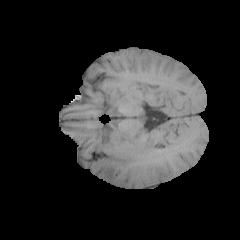glioma: (88, 140, 137, 181)
